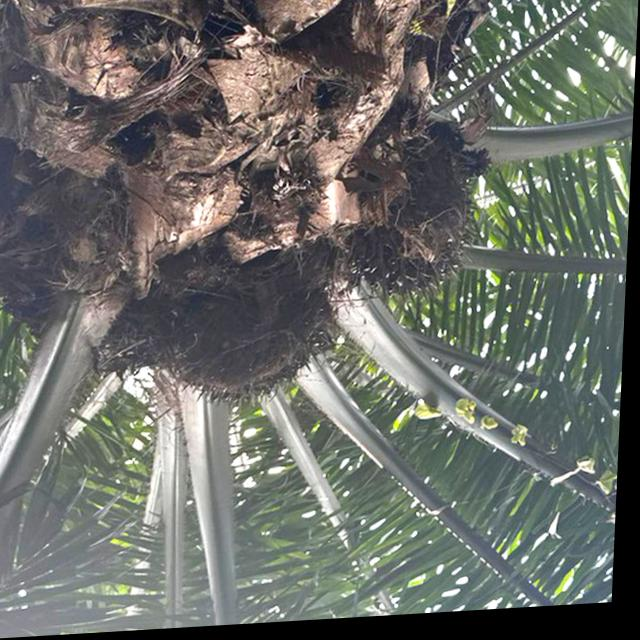unripe: (157, 269, 346, 418)
